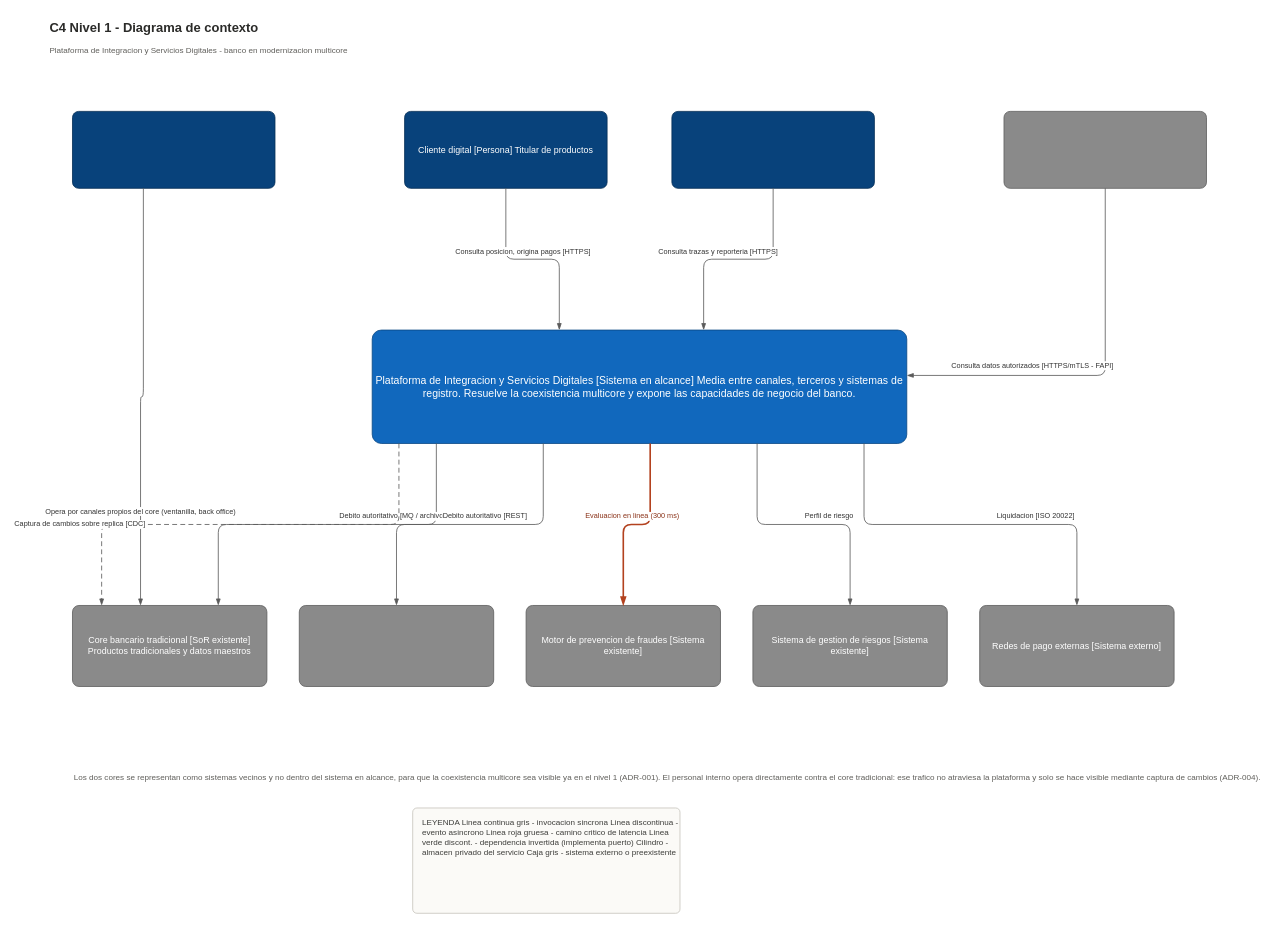
The diagram is 1274 pixels wide and 927 high, and some of its shapes have lost their labels. Each missing label, with the box of its shape:
Analista de cumplimiento [Persona] Auditoria y reporteria: (671, 111, 874, 188)
Core bancario digital [SoR nuevo] Productos nativos digitales: (298, 605, 494, 686)
Personal interno [Persona] Agencia y back office: (72, 111, 275, 188)
Terceros Open Finance [Sistema externo] Consumen APIs bajo consentimiento: (1003, 111, 1206, 188)
